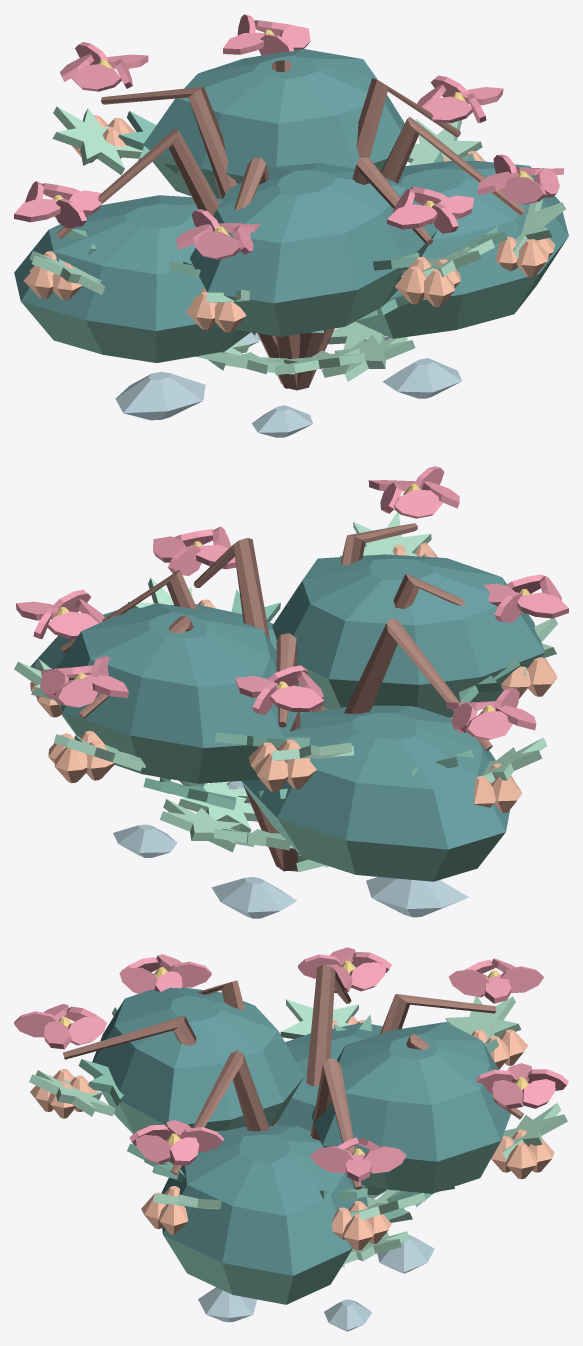
File: lagoon_shrub_salmonberry.glb
3 views of the same model, one above another, from view 1: azimuth 30°, elevation 25°; view 2: azimuth 150°, elevation 25°; view 3: azimuth 270°, elevation 25° (orthographic). The views are drawn at different scales.
Visible parts, largest first — view 1: lagoon_shrub_salmonberry.001; view 2: lagoon_shrub_salmonberry.001; view 3: lagoon_shrub_salmonberry.001.
Part boxes in pixels (x1,y1,x2,y2): lagoon_shrub_salmonberry.001: [14, 14, 568, 437]; lagoon_shrub_salmonberry.001: [14, 466, 568, 918]; lagoon_shrub_salmonberry.001: [14, 947, 568, 1331].
Size of the model in its own units: 3.28 by 1.73 by 3.2.
